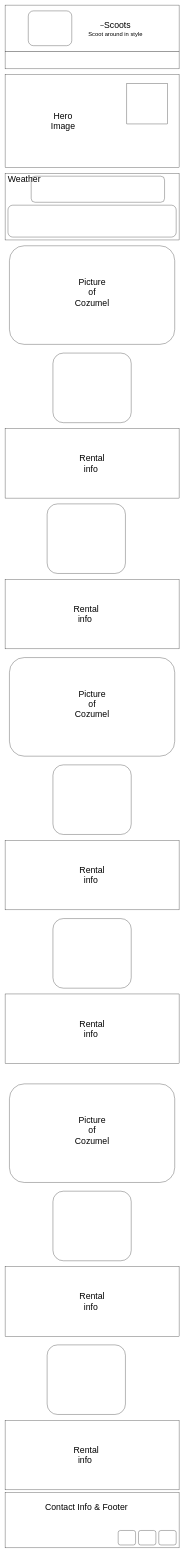
Image size: 184x1553. Some labels were removed from this diagram. The centre of each missing label's shape, as x and y in pixels:
"Call to Action" goes at (147,103).
"Forecast" goes at (92,221).
"Hamburger Menu/Navigation" goes at (92,60).
"Logo" goes at (50,28).
"Summary" goes at (98,189).
